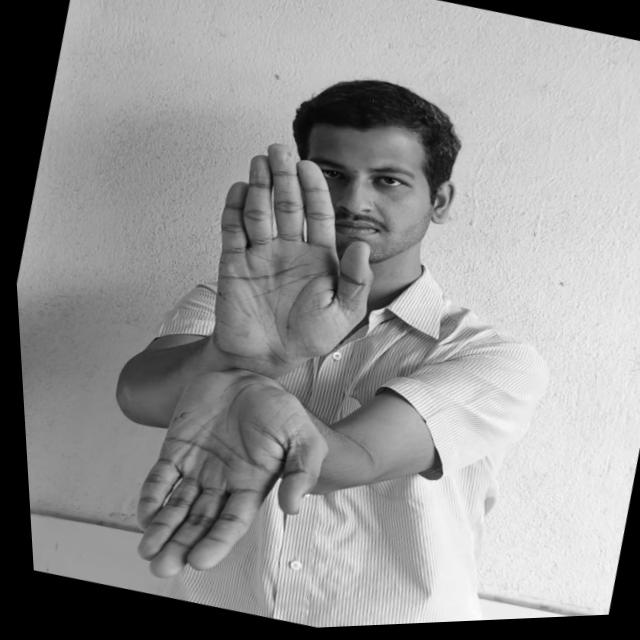Morning: (94, 121, 417, 621)
